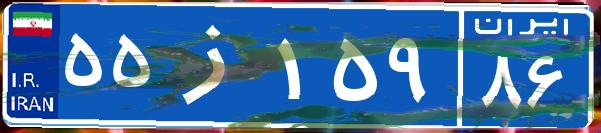1: (273, 28, 330, 110)
5: (330, 28, 385, 110), (57, 26, 110, 107), (110, 28, 158, 105)
6: (525, 38, 570, 115)
8: (475, 38, 525, 113)
9: (385, 28, 445, 110)
ز: (158, 15, 273, 115)
